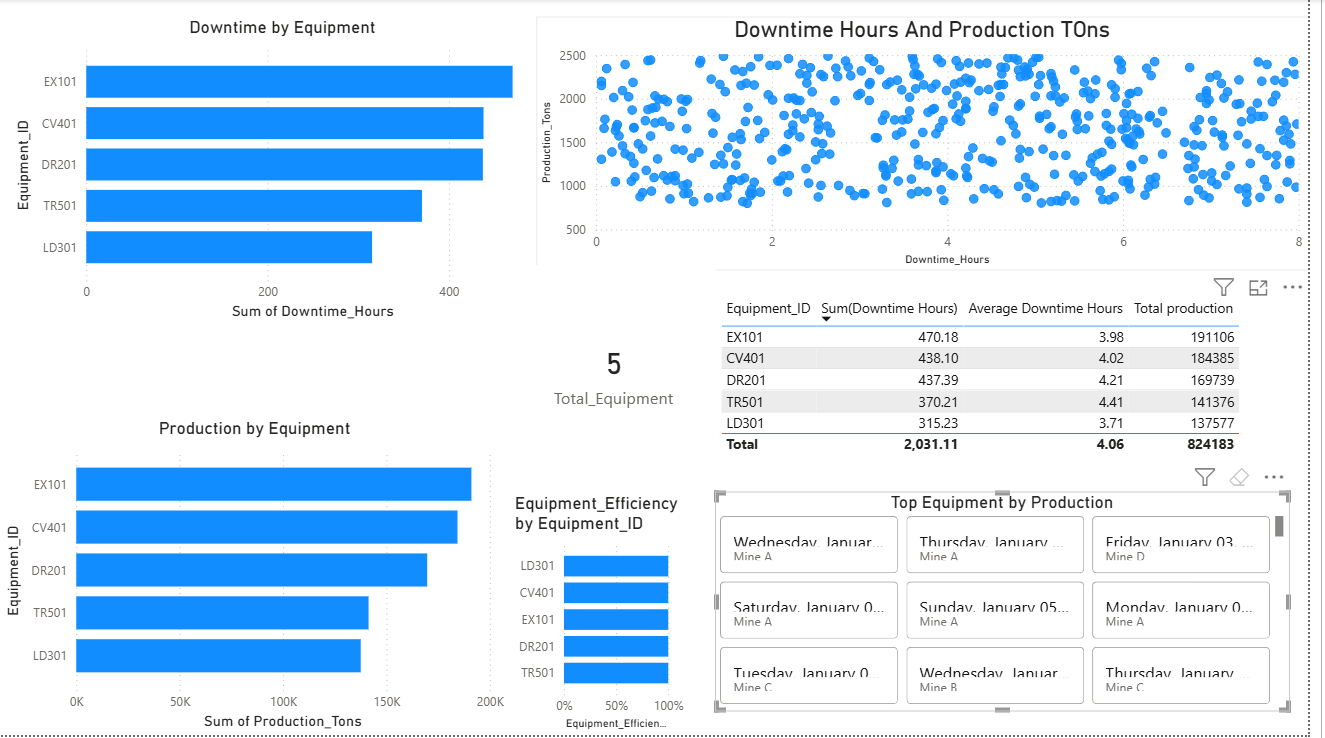

The page's visual inventory and layout, read from the dashboard file:
{"tool":"powerbi","page":{"name":"Eqipment Performance Dashboard","canvas":[1280,720],"ordinal":1},"visuals":[{"type":"barChart","title":"Downtime by Equipment","fields":{"Category":["Mining_Data.Equipment_ID"],"Y":["Sum(Mining_Data.Downtime_Hours)"]},"box":[10,16.7,533.3,301.7],"z":0},{"type":"barChart","title":"Production by Equipment","fields":{"Category":["Mining_Data.Equipment_ID"],"Y":["Sum(Mining_Data.Production_Tons)"]},"box":[0,410,498.3,310],"z":1000},{"type":"tableEx","fields":{"Values":["Mining_Data.Equipment_ID","Sum(Mining_Data.Downtime_Hours)","Avg(Mining_Data.Downtime_Hours)","Sum(Mining_Data.Production_Tons)"]},"box":[700,286.7,523.3,195],"z":2000},{"type":"scatterChart","title":"Downtime Hours And Production TOns","fields":{"X":["Mining_Data.Downtime_Hours"],"Y":["Mining_Data.Production_Tons"]},"box":[525,16.7,755,248.3],"z":3000},{"type":"advancedSlicerVisual","title":"Top Equipment by Production","fields":{"Values":["Mining_Data.Date"],"Label":["Min(Mining_Data.Mine_Name)"]},"box":[700,481.7,561.7,215],"z":4000},{"type":"card","fields":{"Values":["Mining_Data.Total_Equipment"]},"box":[501.7,260,198.3,210],"z":5000},{"type":"hundredPercentStackedBarChart","fields":{"Y":["Mining_Data.Equipment_Efficiency"],"Category":["Mining_Data.Equipment_ID"]},"box":[498.3,483.3,175,236.7],"z":6000}]}

Visuals, with their boxes in screenshot pixels (x1, y1, x2, y2), scaled from the page's 1280x720 canvas onto the 1325x738 screenshot:
"Downtime by Equipment" barChart: (10,17,562,326)
"Production by Equipment" barChart: (0,420,516,737)
tableEx - Mining_Data.Equipment_ID x Sum(Mining_Data.Downtime_Hours): (725,294,1266,494)
"Downtime Hours And Production TOns" scatterChart: (543,17,1324,272)
"Top Equipment by Production" advancedSlicerVisual: (725,494,1306,714)
card - Mining_Data.Total_Equipment: (519,266,725,482)
hundredPercentStackedBarChart - Mining_Data.Equipment_Efficiency x Mining_Data.Equipment_ID: (516,495,697,737)
